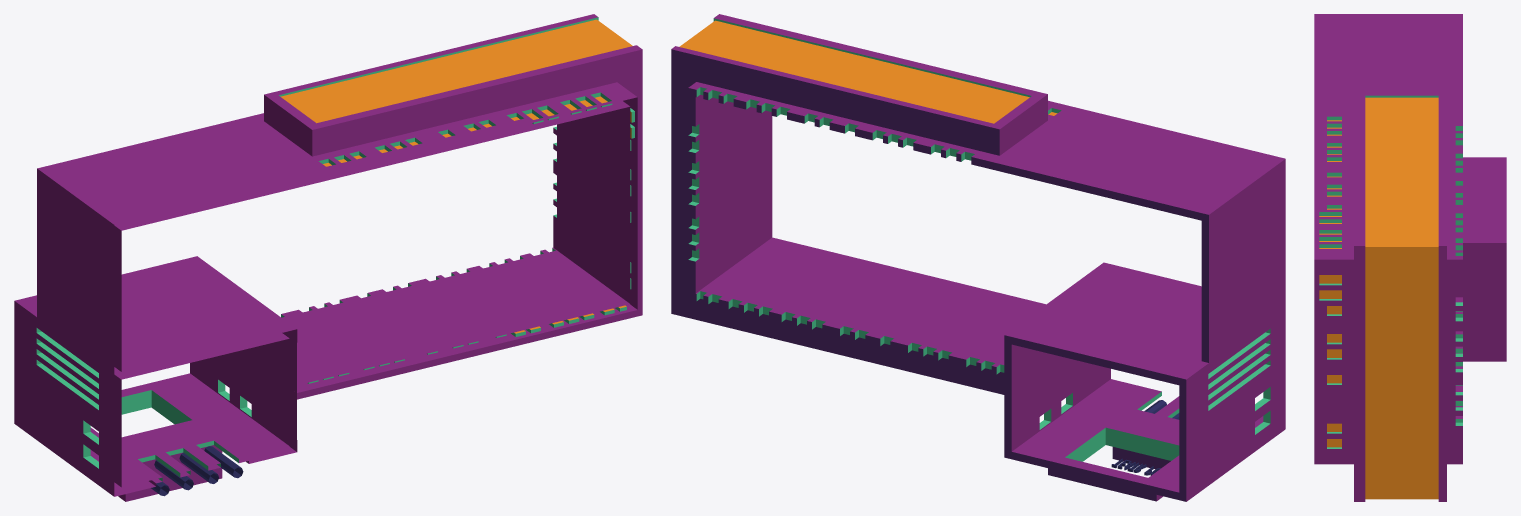
File: Teatr powszechny Tier 2.fbx
The picture shows the model from 3 angles, left to right: view 1: azimuth 30°, elevation 25°; view 2: azimuth 150°, elevation 25°; view 3: azimuth 270°, elevation 25°; orthographic projection. The views are drawn at different scales.
Parts seen in each view (by area): view 1: Teatr_obj_0; view 2: Teatr_obj_0; view 3: Teatr_obj_0.
Part boxes in pixels (<box>): Teatr_obj_0: <box>14,14,642,501</box>; Teatr_obj_0: <box>671,14,1285,501</box>; Teatr_obj_0: <box>1314,14,1506,501</box>.
Size of the model in its own units: 3.97 by 2.32 by 1.25.
